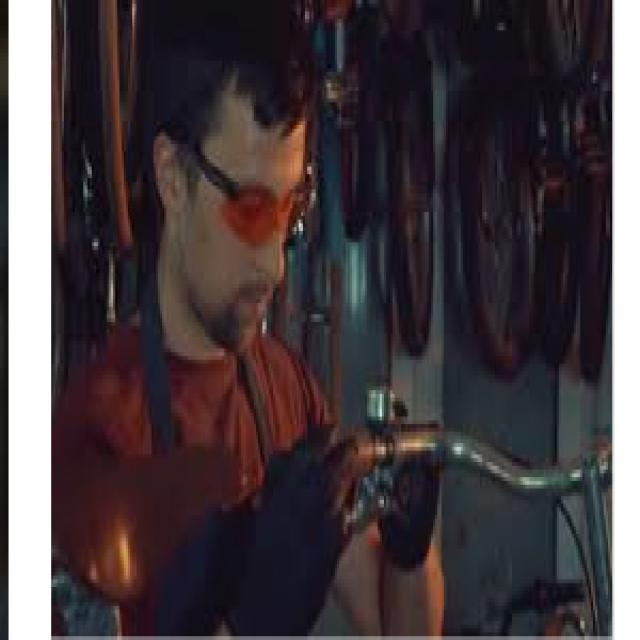glasses: (189, 163, 331, 243)
